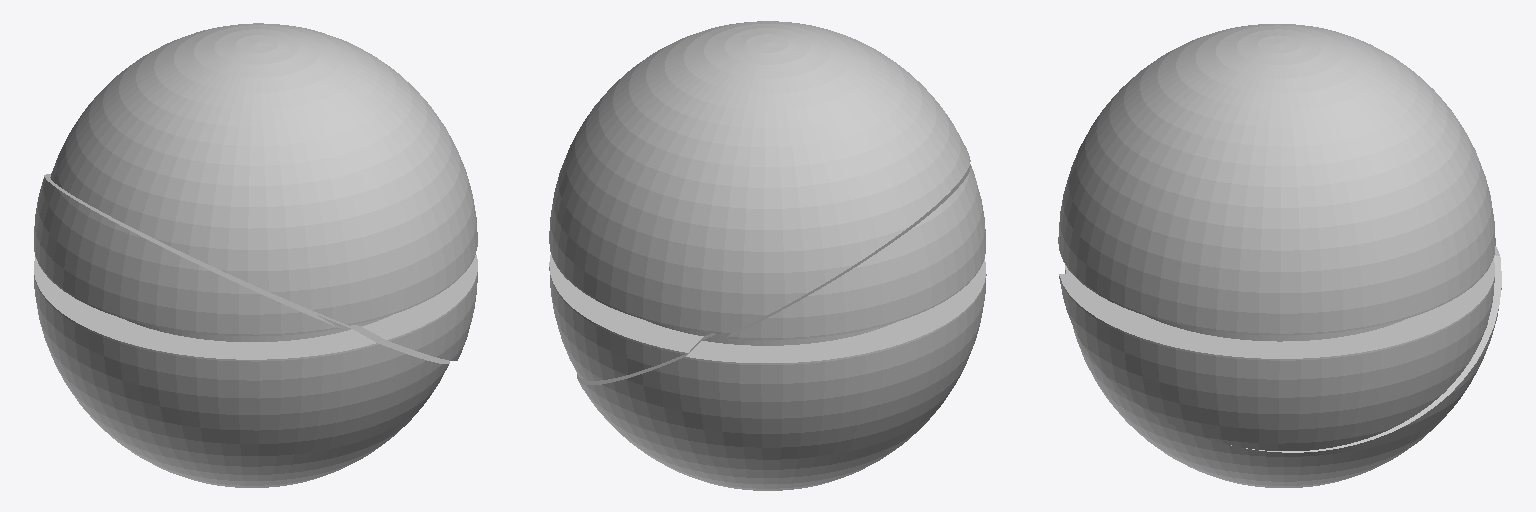
File: Drone166_000001.obj
The picture shows the model from 3 angles: view 1: azimuth 30°, elevation 25°; view 2: azimuth 150°, elevation 25°; view 3: azimuth 270°, elevation 25°; orthographic projection.
Parts seen in each view (by area): view 1: Sphere.001, Sphere.000_Sphere.002; view 2: Sphere.001, Sphere.000_Sphere.002; view 3: Sphere.001, Sphere.000_Sphere.002.
Boxes of the visible parts, box(x1,y1,x2,y2) form: Sphere.001: box(50, 23, 477, 360); Sphere.000_Sphere.002: box(34, 174, 449, 487); Sphere.001: box(549, 21, 970, 380); Sphere.000_Sphere.002: box(577, 164, 986, 490); Sphere.001: box(1058, 24, 1495, 450); Sphere.000_Sphere.002: box(1065, 246, 1501, 487).
Bounding box in the file's own units: 2.02 × 2.15 × 2.03.